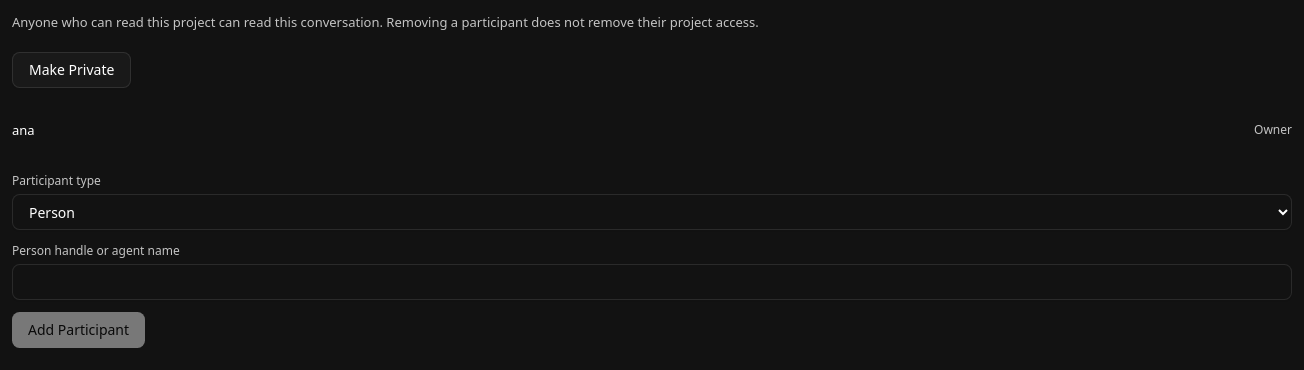
Test: People & Access changes membership with the recorded version and explains shared visibility
Check: the text "Anyone who can read this project can read this conversation. Removing a participant does not remove their project access" is shown, box [12, 13, 759, 31]
Type "@bo" into the field labelled "Person handle or agent name" at (652, 282), box [12, 264, 1292, 300]
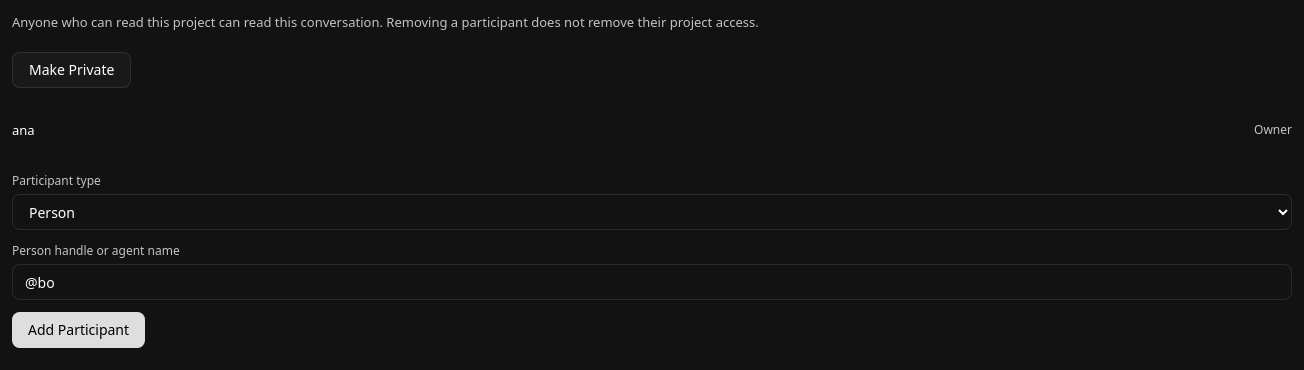
Click the button "Add Participant" at (79, 330), box [12, 312, 145, 348]
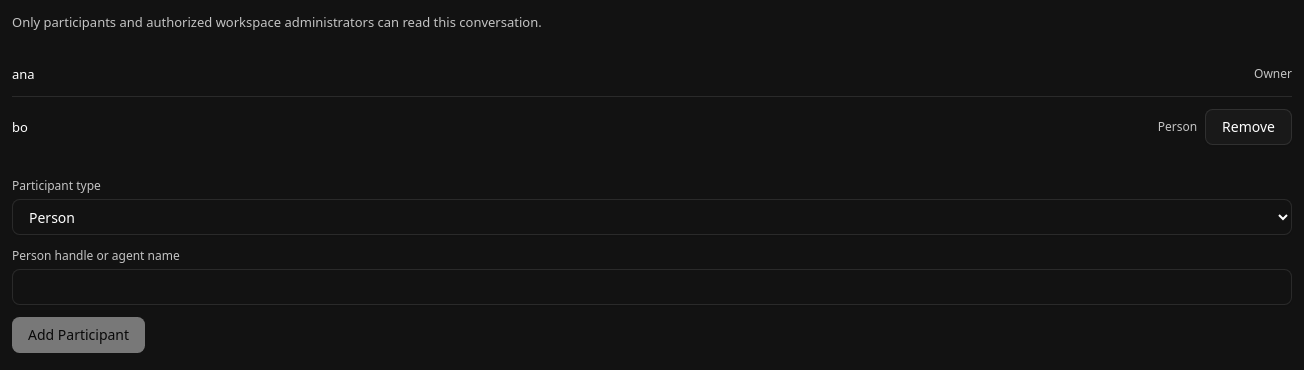
Check: the text "bo" is shown, box [12, 118, 28, 136]
